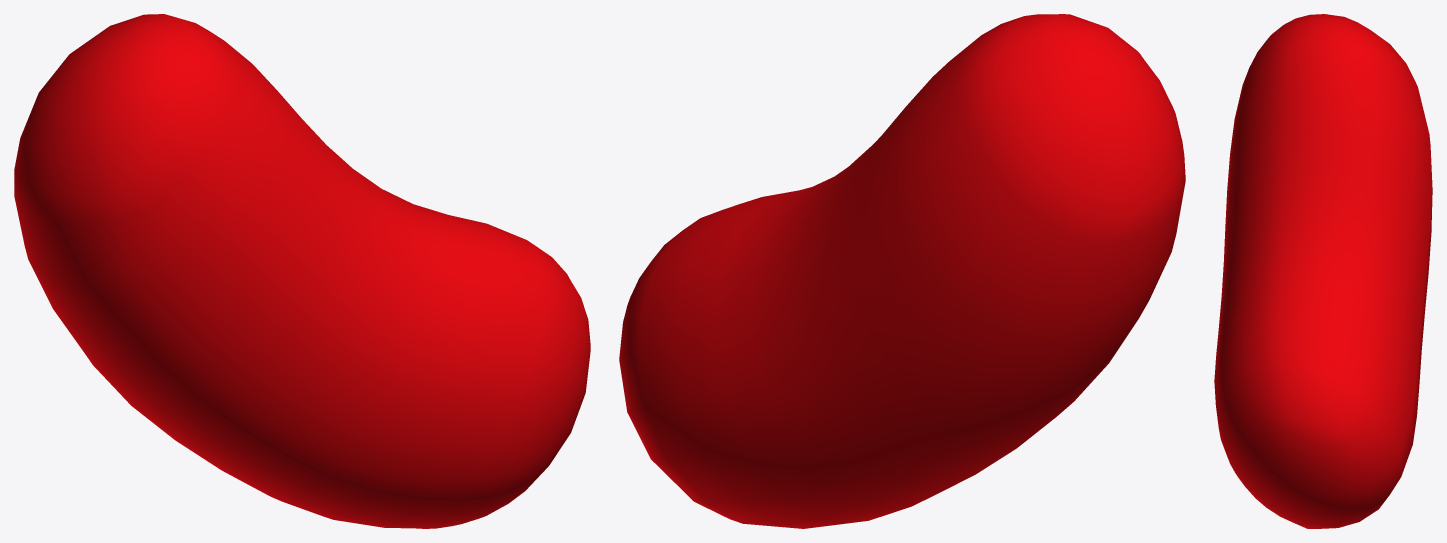
The model's file is candy2.glb.
3 views of the same model, side by side, from view 1: azimuth 30°, elevation 25°; view 2: azimuth 150°, elevation 25°; view 3: azimuth 270°, elevation 25° (orthographic). The views are drawn at different scales.
Visible parts, largest first — view 1: red_candy; view 2: red_candy; view 3: red_candy.
Boxes of the visible parts, x1,y1,x2,y2 form: red_candy: (14, 14, 590, 528); red_candy: (619, 14, 1185, 528); red_candy: (1214, 14, 1432, 528).
Bounding box in the file's own units: 3.77 × 3.76 × 1.85.
